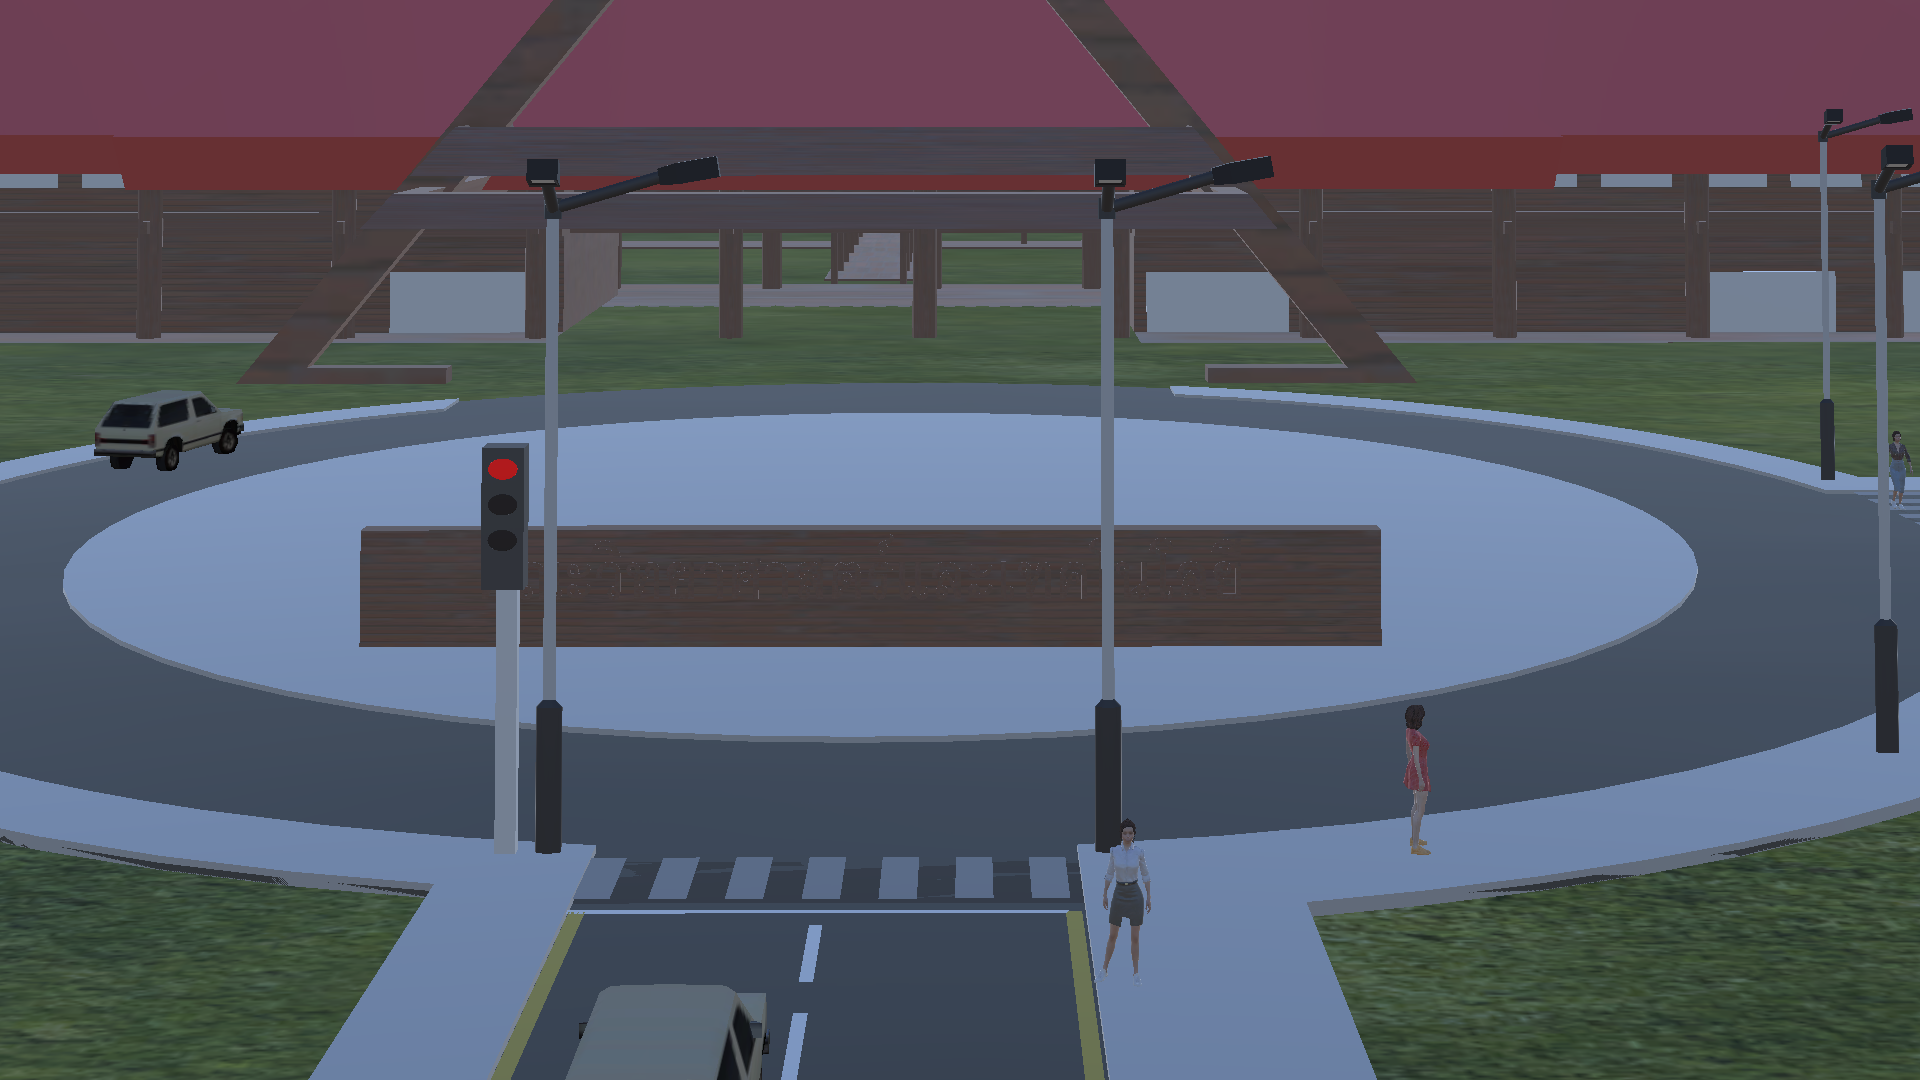pedestrian: (1092, 812, 1158, 988), (1388, 696, 1440, 868), (1887, 425, 1919, 507)
